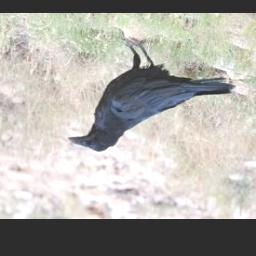Crow: (66, 33, 237, 153)
